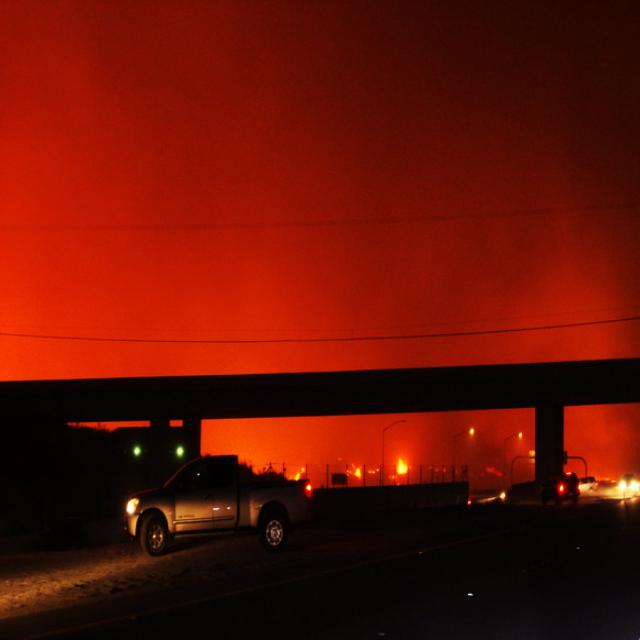Car: (121, 452, 305, 558)
